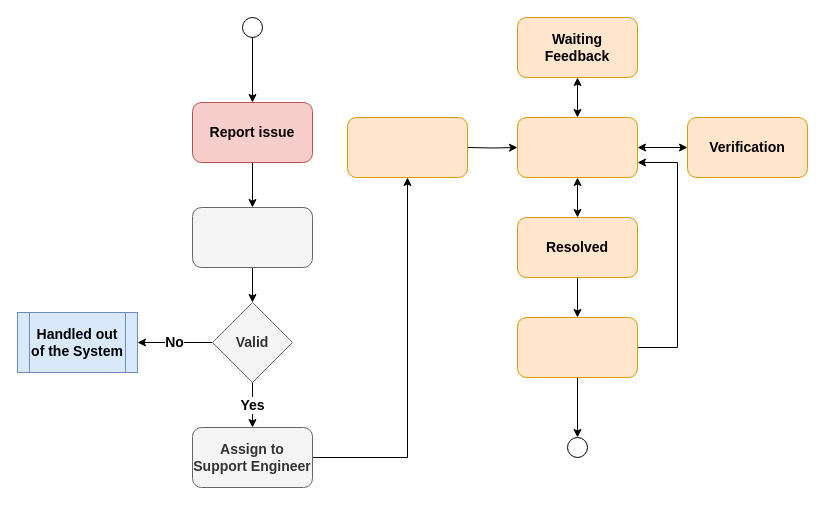
Image size: 825x505. Some labels were removed from this diagram. The centre of each missing label's shape, as x and y in pixels:
"Closed" goes at point (577, 347).
"In Progress" goes at point (577, 147).
"Initial investigation" goes at point (252, 237).
"Open" goes at point (407, 147).
